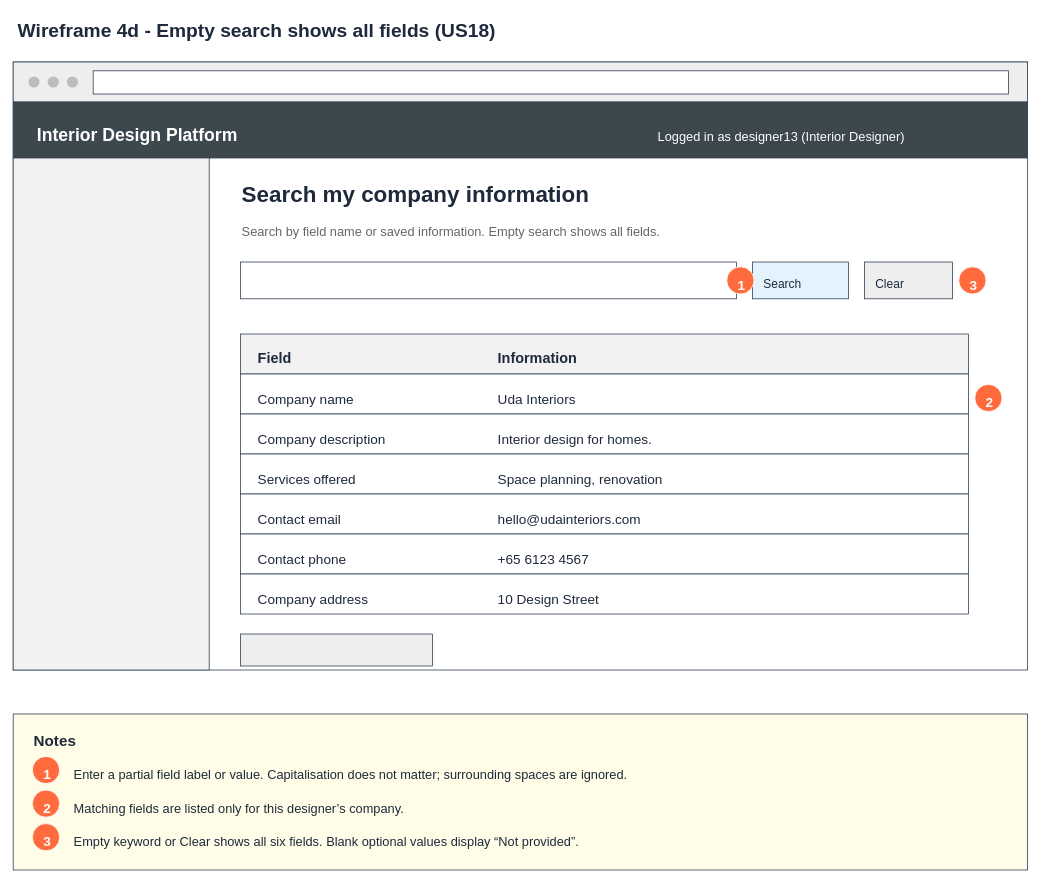
Image size: 1041x883. Some labels were removed from this diagram. Here are the shapes that lost their labels. From the top down, the centre of each, then its label:
At (550,82): "localhost:5000/designer/company/search".
At (110,413): "Dashboard".
At (336,649): "Back to company profile".
